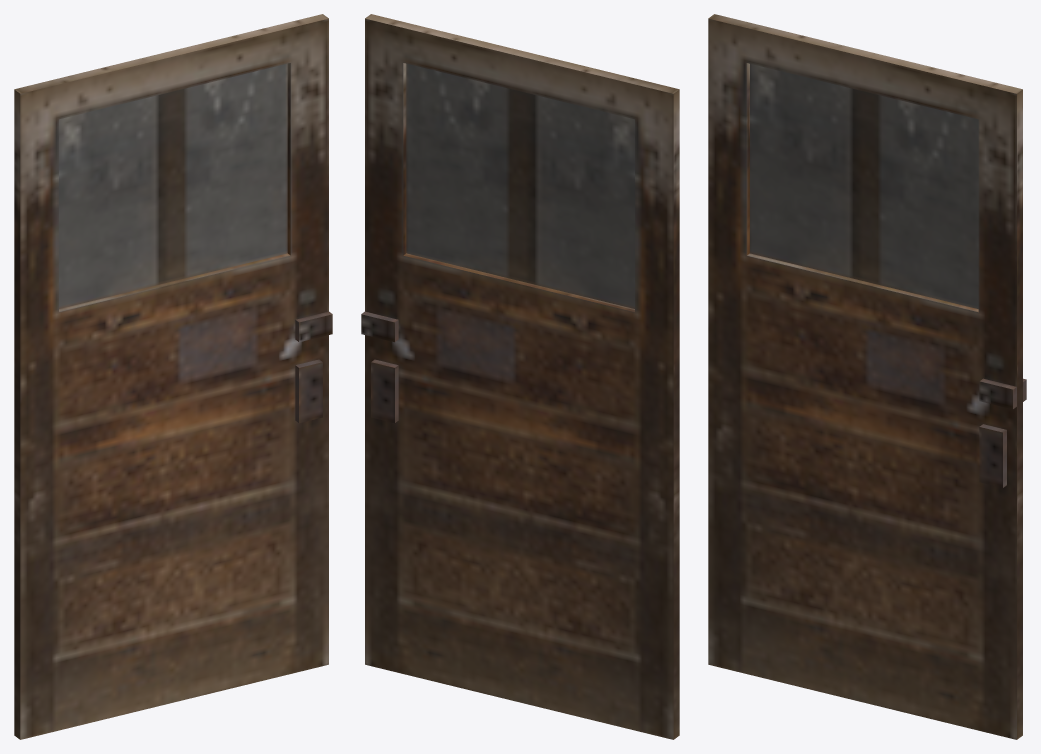
Rendered from DoorWooden02.obj.
The picture shows the model from 3 angles, left to right: view 1: azimuth 30°, elevation 25°; view 2: azimuth 150°, elevation 25°; view 3: azimuth 330°, elevation 25°; orthographic projection.
Parts seen in each view (by area): view 1: DoorWooden02; view 2: DoorWooden02; view 3: DoorWooden02.
Part boxes in pixels (x1,y1,x2,y2): DoorWooden02: [14, 14, 332, 739]; DoorWooden02: [361, 14, 679, 739]; DoorWooden02: [708, 14, 1026, 739].
Size of the model in its own units: 1.5 by 3 by 0.1152.
